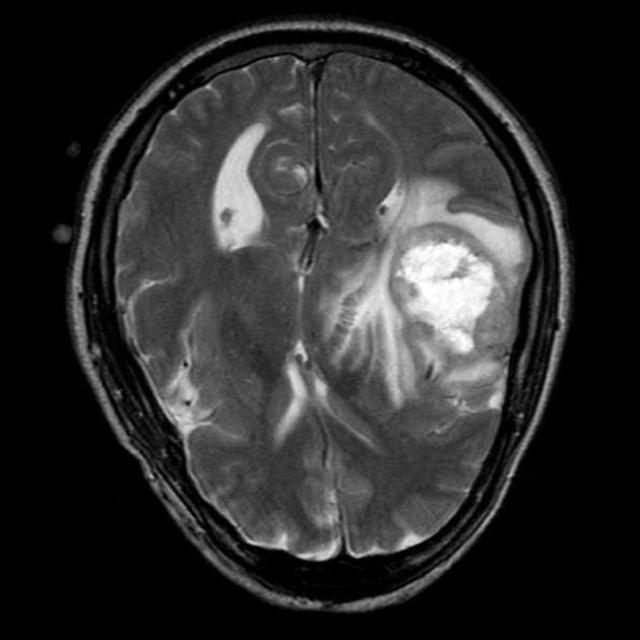brain tumor: (318, 178, 533, 407)
